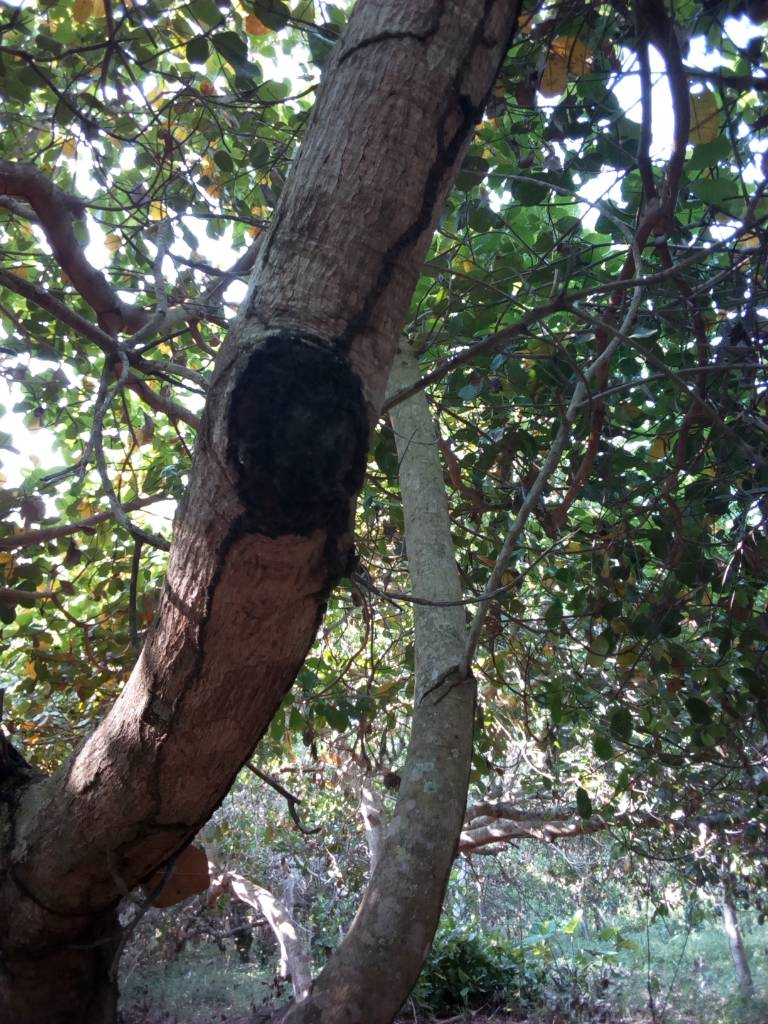Termites: (335, 83, 486, 364), (140, 527, 244, 853)
